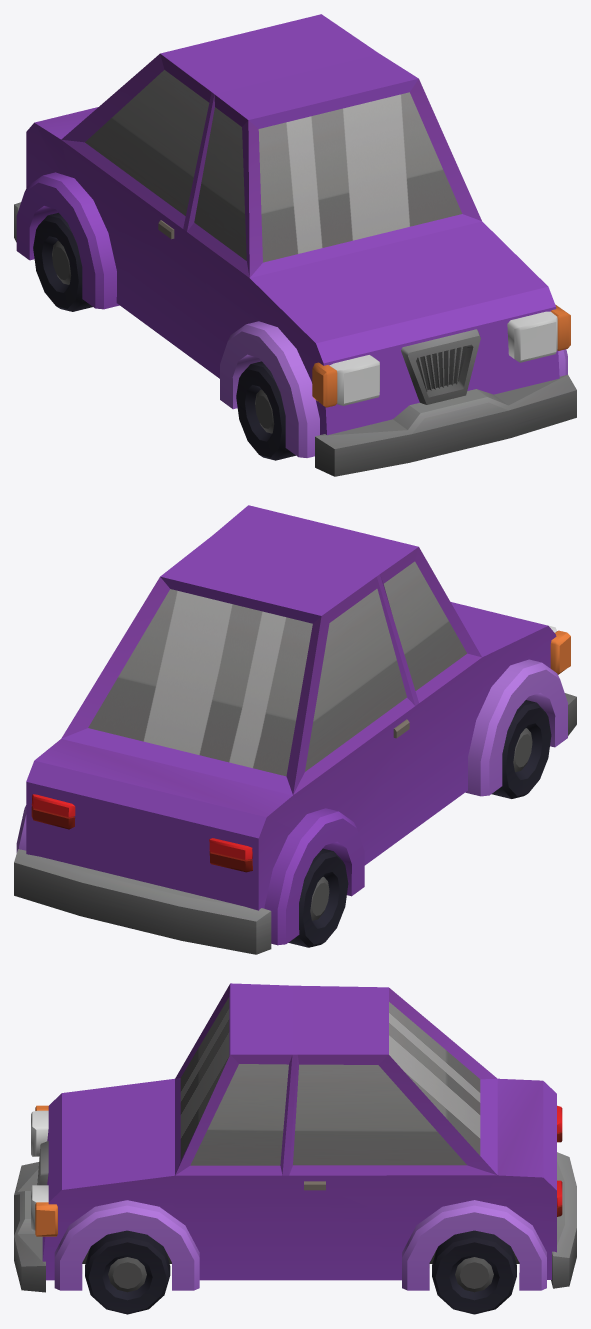
Rendered from Car_4_16.glb.
The picture shows the model from 3 angles, top to bottom: view 1: azimuth 30°, elevation 25°; view 2: azimuth 150°, elevation 25°; view 3: azimuth 270°, elevation 25°; orthographic projection. The views are drawn at different scales.
Visible parts, largest first — view 1: Car_4_16, BWhel_FR, BWhel_BR; view 2: Car_4_16, BWhel_BR, BWhel_FR; view 3: Car_4_16, BWhel_FL, BWhel_BL.
Boxes of the visible parts, bbox=[...] form: Car_4_16: bbox=[14, 14, 576, 476]; BWhel_FR: bbox=[236, 361, 295, 460]; BWhel_BR: bbox=[33, 212, 92, 311]; Car_4_16: bbox=[14, 505, 576, 954]; BWhel_BR: bbox=[288, 848, 348, 947]; BWhel_FR: bbox=[491, 700, 551, 798]; Car_4_16: bbox=[14, 983, 576, 1292]; BWhel_FL: bbox=[85, 1230, 170, 1314]; BWhel_BL: bbox=[432, 1230, 516, 1314].
Bounding box in the file's own units: 1.09 × 1.09 × 2.3.
Materials: 6 (6 with a texture image).
